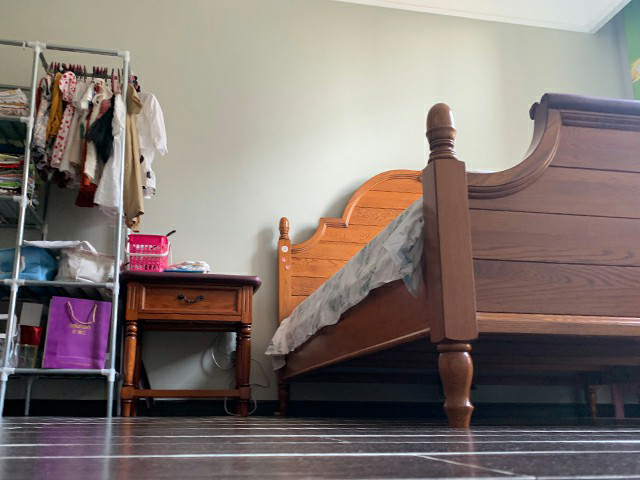bed: (266, 91, 640, 430)
table: (118, 270, 262, 419)
